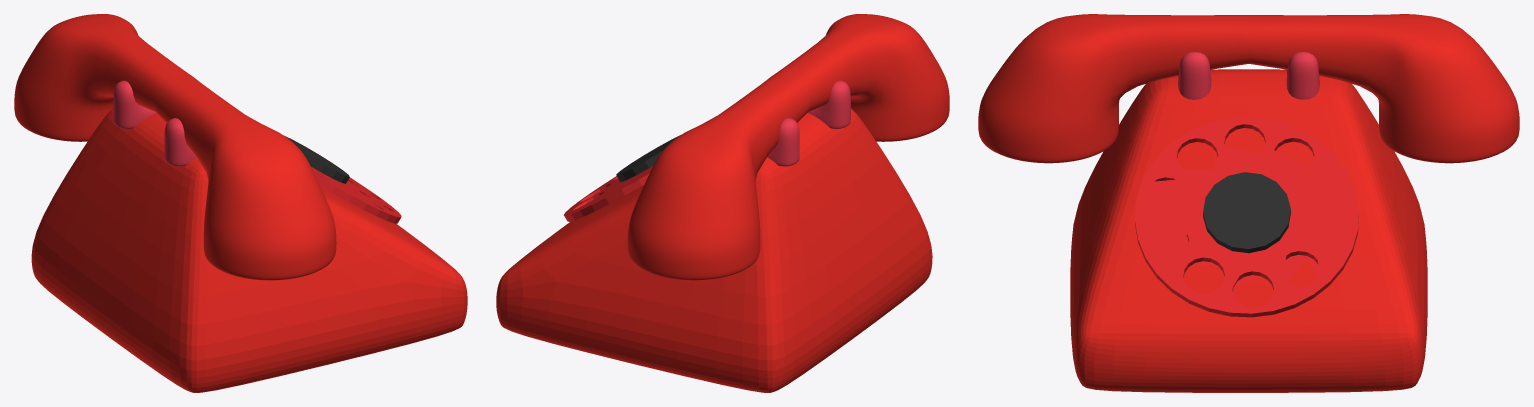
The model's file is Telephone.fbx.
3 views of the same model, side by side, from view 1: azimuth 30°, elevation 25°; view 2: azimuth 150°, elevation 25°; view 3: azimuth 270°, elevation 25° (orthographic). The views are drawn at different scales.
Visible parts, largest first — view 1: Plane, Circle, Plane.001, Circle.001, Cylinder; view 2: Plane, Circle, Plane.001, Circle.001, Cylinder; view 3: Plane, Circle, Circle.001, Cylinder, Plane.001.
Part boxes in pixels (x1=…): Plane: x1=31, y1=108, x2=467, y2=392; Circle: x1=14, y1=14, x2=336, y2=280; Plane.001: x1=113, y1=80, x2=196, y2=166; Circle.001: x1=311, y1=167, x2=401, y2=223; Cylinder: x1=284, y1=135, x2=349, y2=183; Plane: x1=496, y1=108, x2=932, y2=392; Circle: x1=627, y1=14, x2=949, y2=280; Plane.001: x1=767, y1=80, x2=850, y2=166; Circle.001: x1=564, y1=166, x2=652, y2=221; Cylinder: x1=616, y1=135, x2=680, y2=182; Plane: x1=1070, y1=69, x2=1427, y2=392; Circle: x1=978, y1=14, x2=1519, y2=163; Circle.001: x1=1135, y1=117, x2=1358, y2=317; Cylinder: x1=1203, y1=172, x2=1290, y2=253; Plane.001: x1=1178, y1=52, x2=1319, y2=99.
Bounding box in the file's own units: 199 × 166 × 301.
